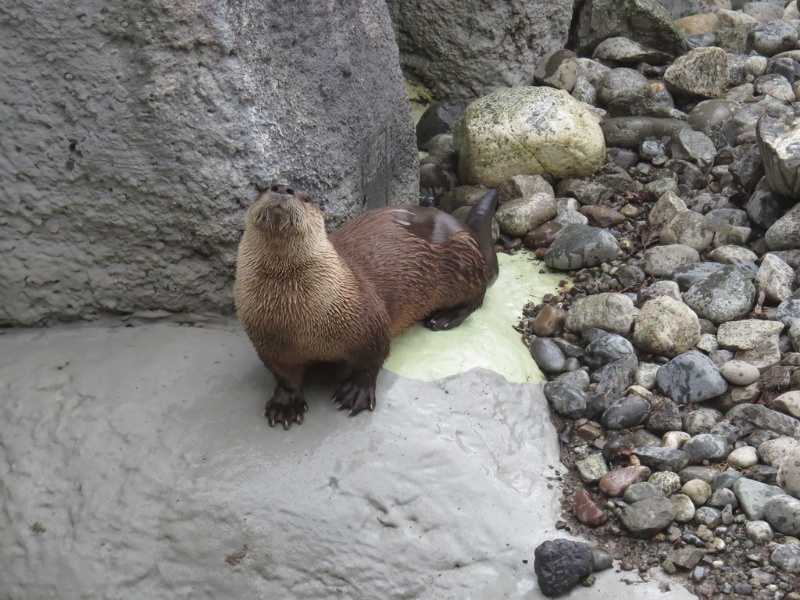minkish: (234, 181, 502, 432)
